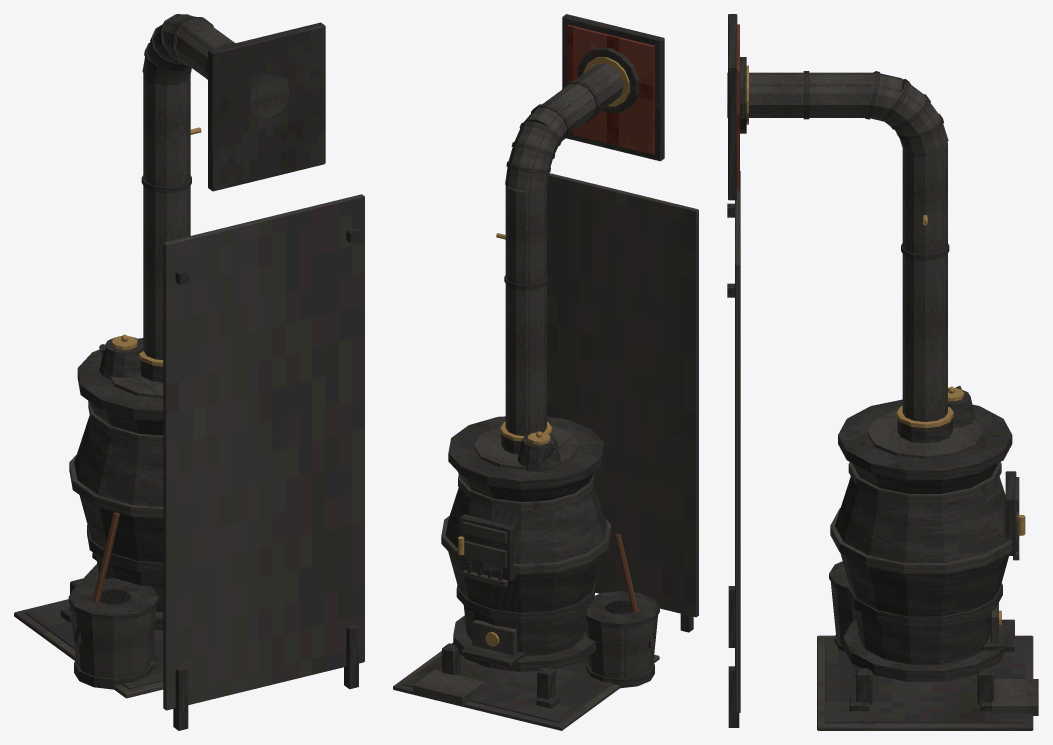
Rendered from stove_static.glb.
3 renders of one model, left to right at view 1: azimuth 30°, elevation 25°; view 2: azimuth 150°, elevation 25°; view 3: azimuth 270°, elevation 25°, orthographic. The views are drawn at different scales.
Parts seen in each view (by area): view 1: stove_static; view 2: stove_static; view 3: stove_static.
Boxes of the visible parts, bbox=[...] form: stove_static: bbox=[14, 14, 364, 730]; stove_static: bbox=[393, 14, 698, 730]; stove_static: bbox=[727, 14, 1038, 730].
Size of the model in its own units: 0.925 by 2.7 by 1.18.
6 materials, 6 textured.
